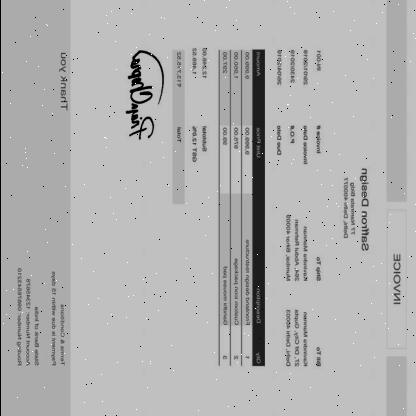Paragraph: (12, 265, 66, 371), (274, 47, 322, 166), (283, 214, 321, 284), (284, 308, 322, 369), (189, 46, 207, 164), (341, 176, 356, 240), (358, 167, 368, 252), (57, 52, 68, 112), (391, 252, 401, 306), (176, 50, 181, 144)
Table: (218, 50, 264, 368)
